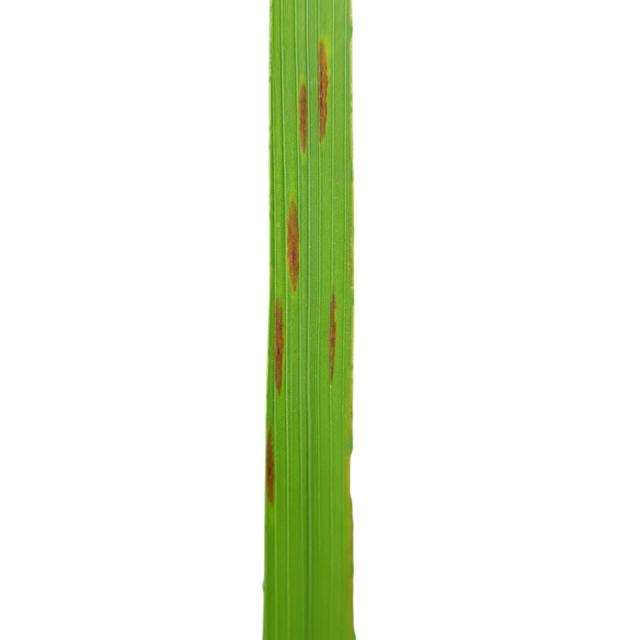Narrow brown: (242, 0, 376, 640)
